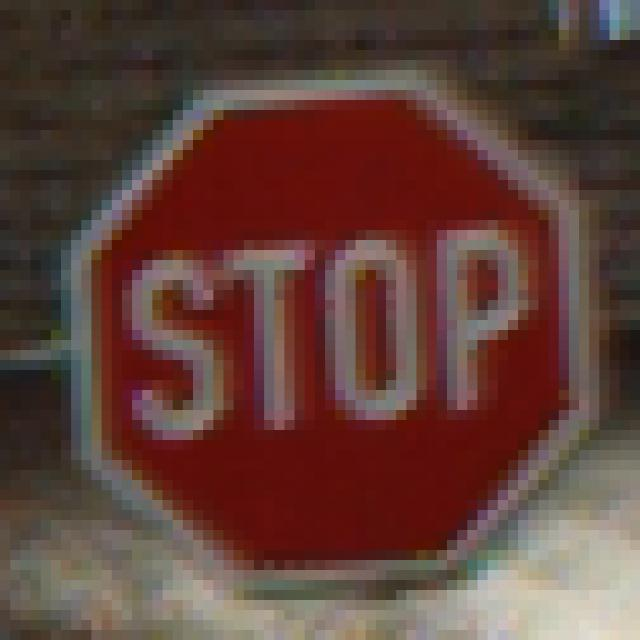STOP: (52, 61, 590, 581)
